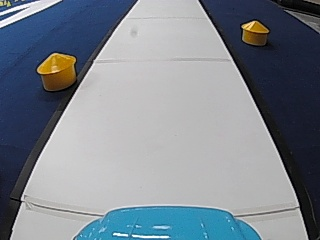granary: (34, 49, 78, 91), (238, 18, 269, 46)
